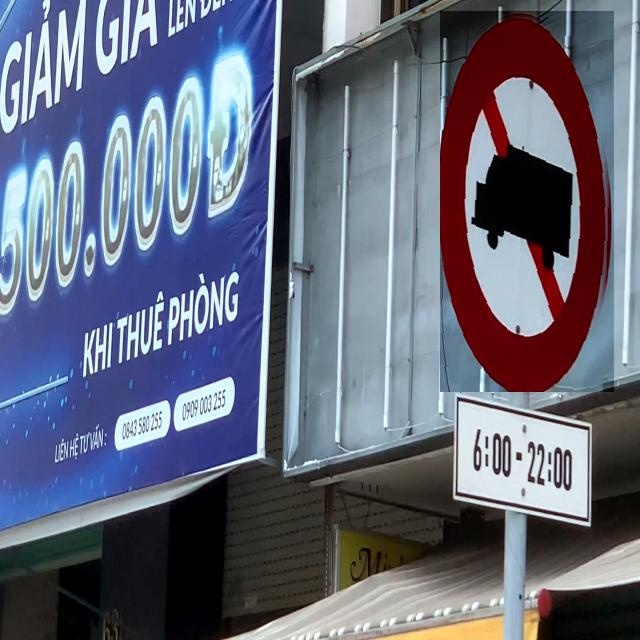bien_cam: (440, 11, 614, 392)
